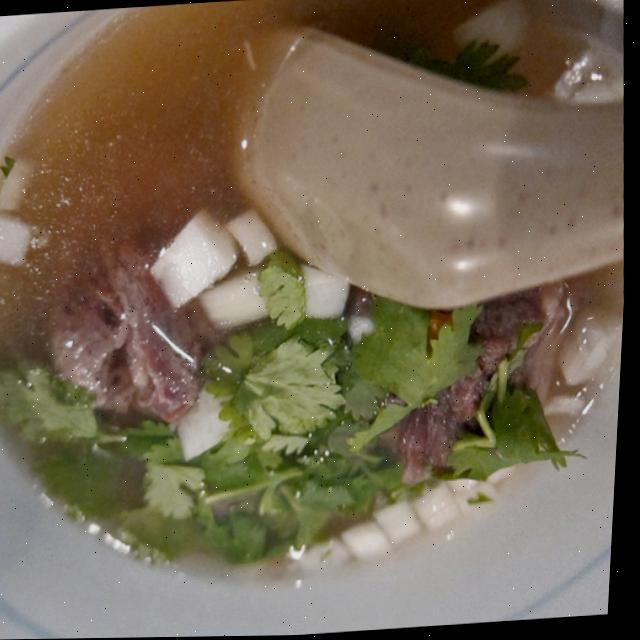汤锅炖物: (2, 0, 625, 597)
